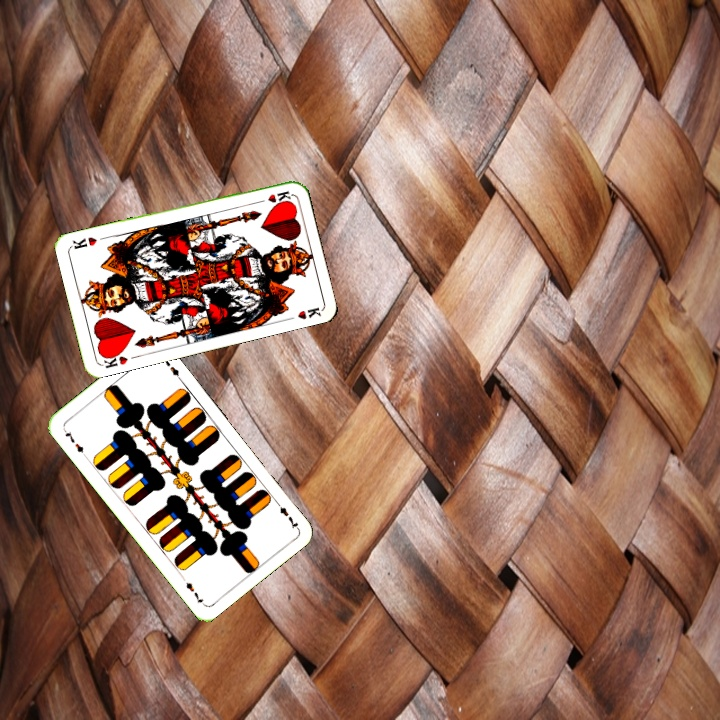E7: (271, 496, 301, 531), (59, 425, 89, 459)
HK: (98, 347, 130, 371), (253, 187, 293, 206)
